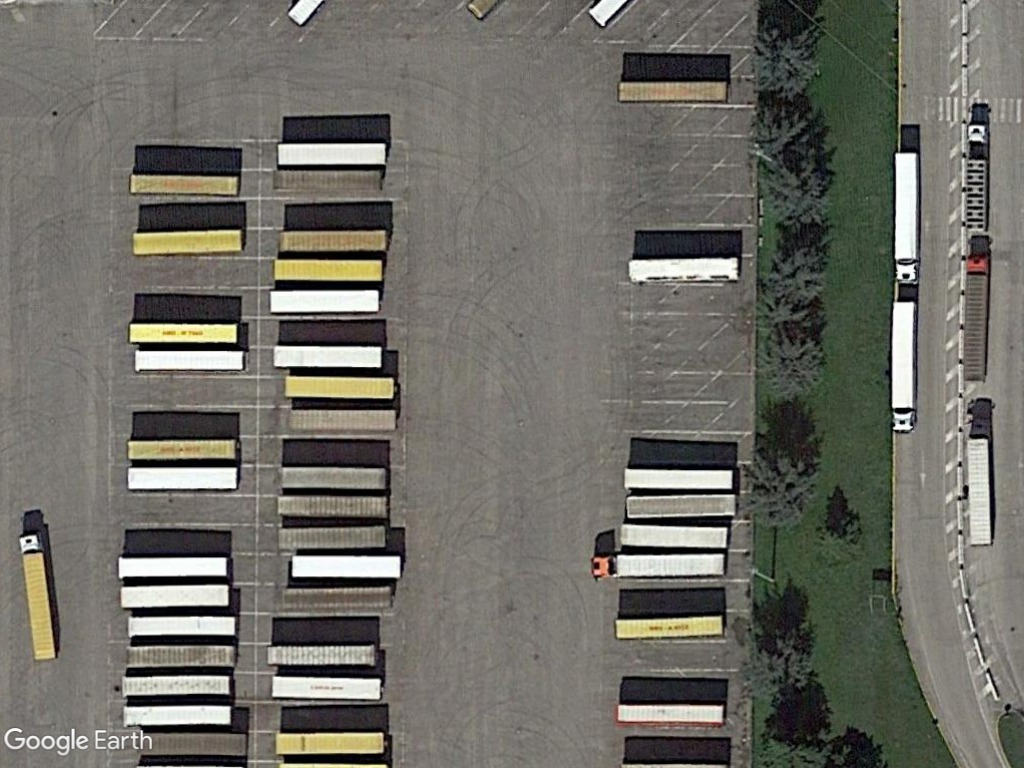longvehicle: (15, 530, 63, 665), (961, 400, 1000, 549), (961, 232, 992, 386), (622, 253, 748, 287), (586, 552, 732, 581), (615, 518, 733, 552), (121, 640, 240, 673), (612, 610, 727, 644), (266, 671, 387, 703), (612, 77, 734, 108), (268, 728, 394, 758), (268, 340, 386, 372), (284, 404, 402, 436), (612, 699, 730, 731), (268, 254, 389, 285), (122, 464, 243, 495), (617, 464, 741, 494), (128, 227, 248, 258), (126, 346, 250, 376), (285, 550, 405, 581), (276, 581, 396, 612), (122, 610, 242, 641), (274, 492, 392, 523), (266, 285, 383, 316), (111, 552, 236, 581), (115, 581, 234, 611), (119, 700, 237, 730), (121, 317, 243, 346), (271, 139, 392, 168), (123, 171, 244, 200), (279, 372, 400, 401), (121, 433, 242, 462), (273, 226, 392, 255), (274, 463, 391, 492), (618, 490, 739, 518), (274, 523, 389, 552), (117, 673, 237, 700), (264, 642, 382, 669)
truck: (888, 295, 918, 437), (892, 148, 922, 287)
